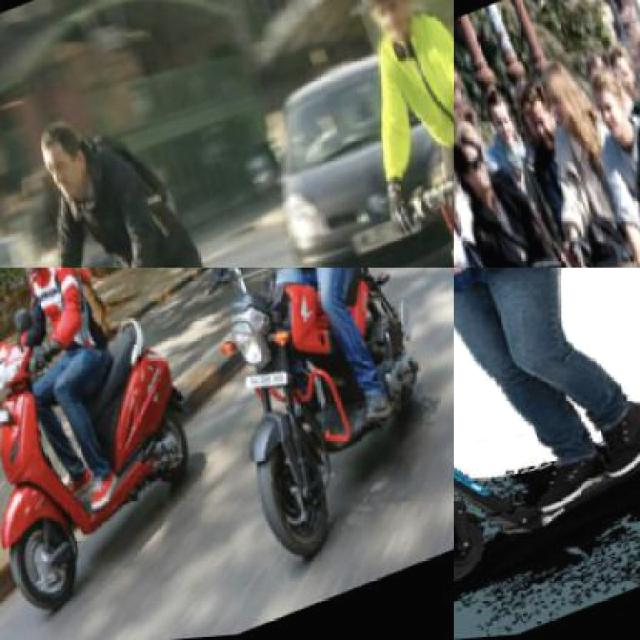With Helmet: (340, 0, 429, 62)
Without Helmet: (22, 108, 106, 214), (532, 53, 598, 153), (575, 58, 634, 150), (454, 125, 503, 212), (626, 28, 639, 109)
